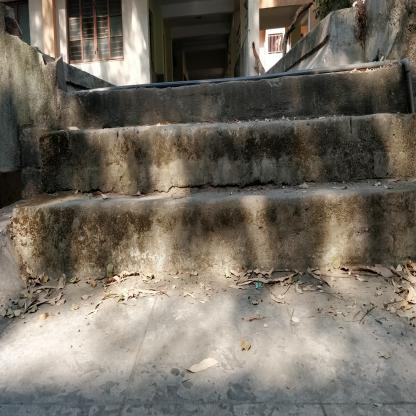stairs: (81, 80, 400, 282)
